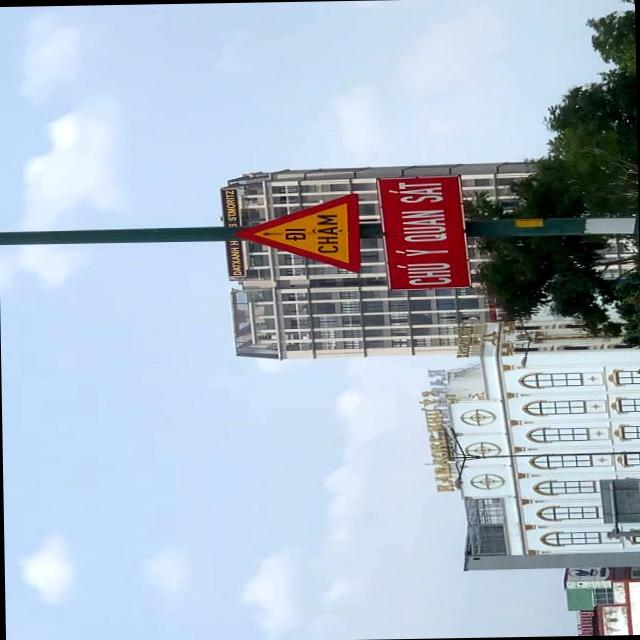W-245a: (230, 192, 360, 274)
